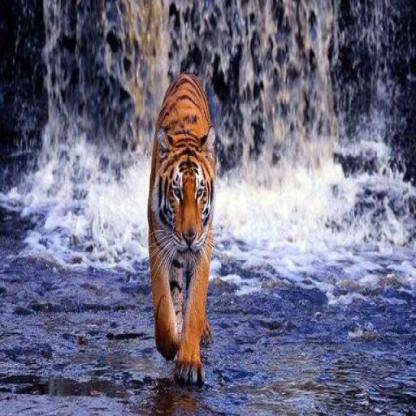Tiger: (132, 61, 240, 381)
